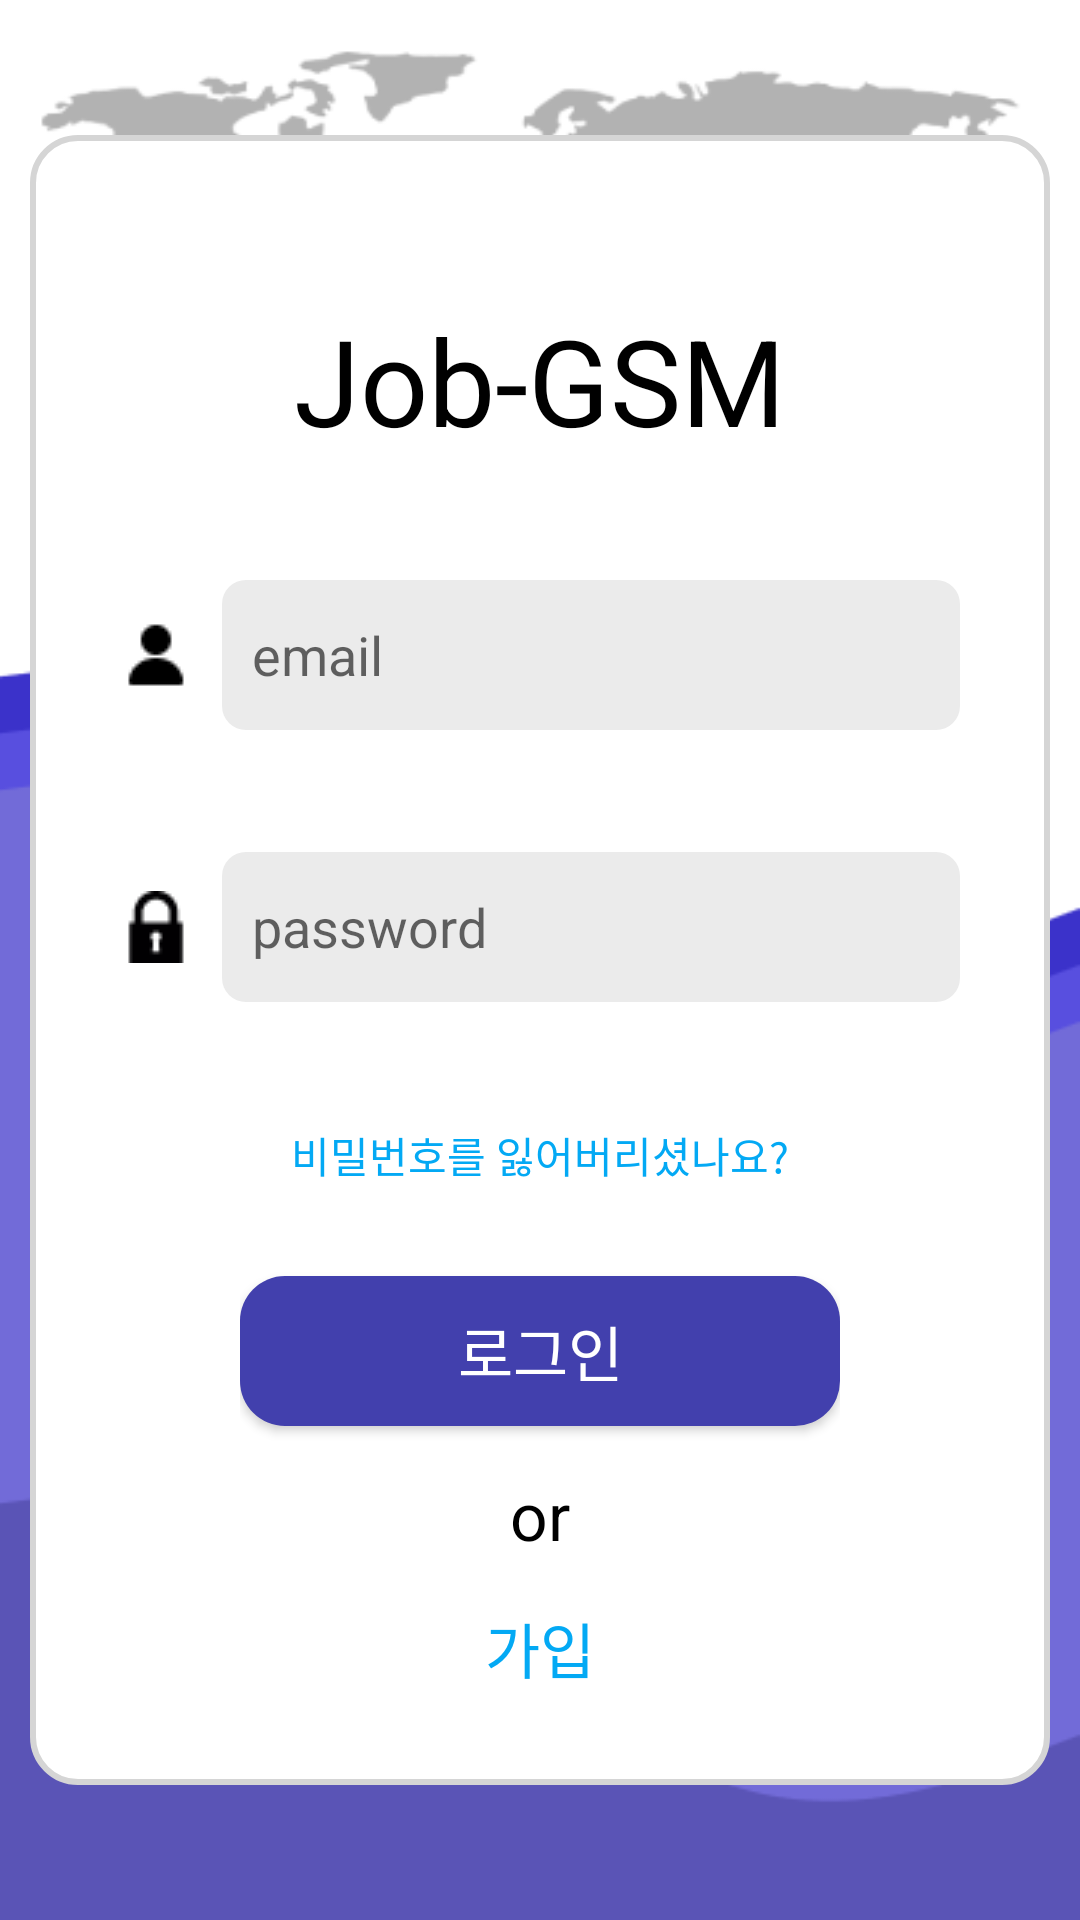

Icons on this 1080x1920 Android screen, each with its box as (x1, y1, x2, y2):
person: (128, 624, 184, 686)
